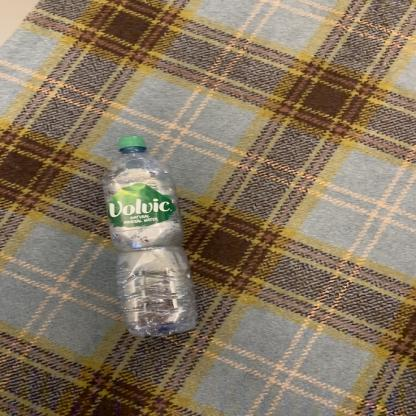trash: (103, 134, 200, 340)
